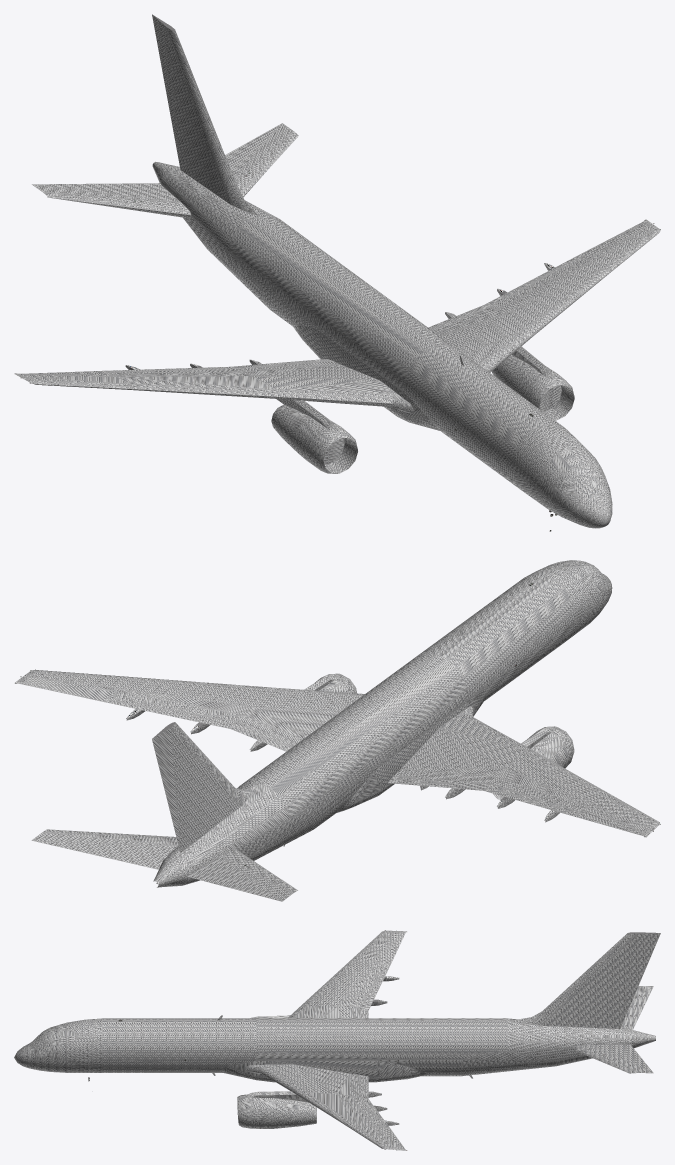
Rendered from AIG_B757-200_RR535C_LOD1.gltf.
3 renders of one model, top to bottom at view 1: azimuth 30°, elevation 25°; view 2: azimuth 150°, elevation 25°; view 3: azimuth 270°, elevation 25°, orthographic. The views are drawn at different scales.
Parts seen in each view (by area): view 1: fuselage_RR_low_LOD; view 2: fuselage_RR_low_LOD; view 3: fuselage_RR_low_LOD.
Part boxes in pixels (x1,y1,x2,y2): fuselage_RR_low_LOD: [14, 14, 660, 528]; fuselage_RR_low_LOD: [14, 560, 659, 901]; fuselage_RR_low_LOD: [14, 930, 660, 1150].
Size of the model in its own units: 38.11 by 12.91 by 47.34.
